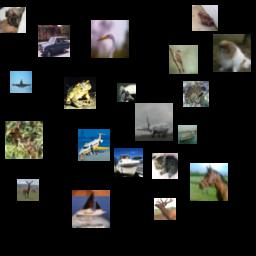airplane: (135, 103, 173, 141), (78, 129, 110, 161), (10, 71, 32, 93)
automobile: (38, 25, 70, 57)
bird: (91, 20, 129, 58), (169, 45, 198, 74), (117, 83, 136, 102)
cat: (152, 153, 178, 179)
deer: (5, 121, 43, 159), (154, 198, 176, 220), (17, 179, 39, 201)
dog: (213, 34, 251, 72), (0, 7, 26, 33)
frog: (64, 77, 96, 109), (183, 81, 209, 107), (192, 5, 218, 31)
ship: (72, 190, 110, 228), (114, 148, 143, 177), (178, 125, 197, 144)
